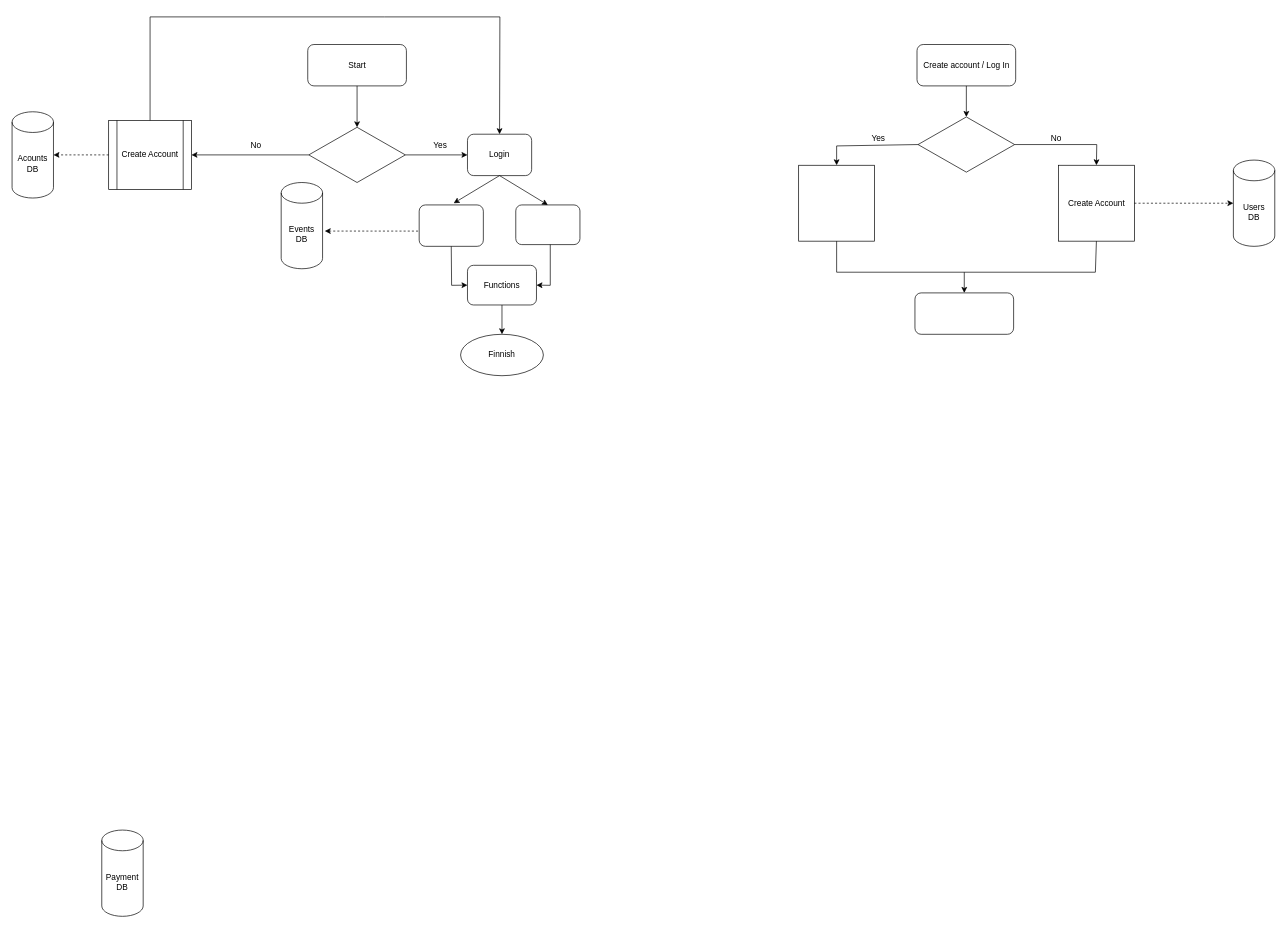
Image size: 1287x929. Some labels were removed from this diagram. The shapes that lost their labels are listed below. From the top down, each one's centre as x and y in pixels, then its label:
At (356,155): "Have Account ?".
At (966,144): "Returning Customer?".
At (836,203): "Please enter email & password".
At (450,225): "New Event".
At (547,224): "Join Event".
At (964,313): "Return".
